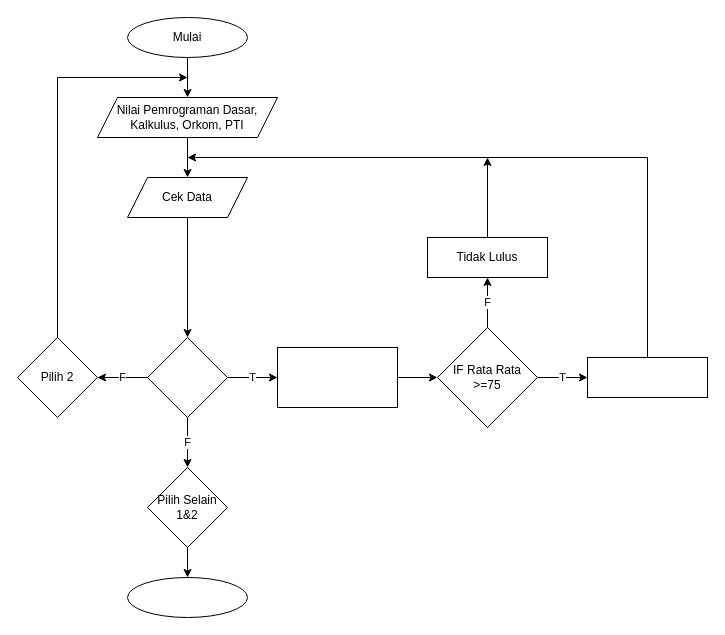
The diagram is 725 pixels wide and 635 high, and some of its shapes have lost their labels. Each missing label, with the box of its shape:
Lulus: (586, 356, 708, 398)
Nilai Rata Rata: (276, 346, 398, 408)
Pilih 1: (146, 336, 228, 418)
Selesai: (126, 576, 248, 618)
